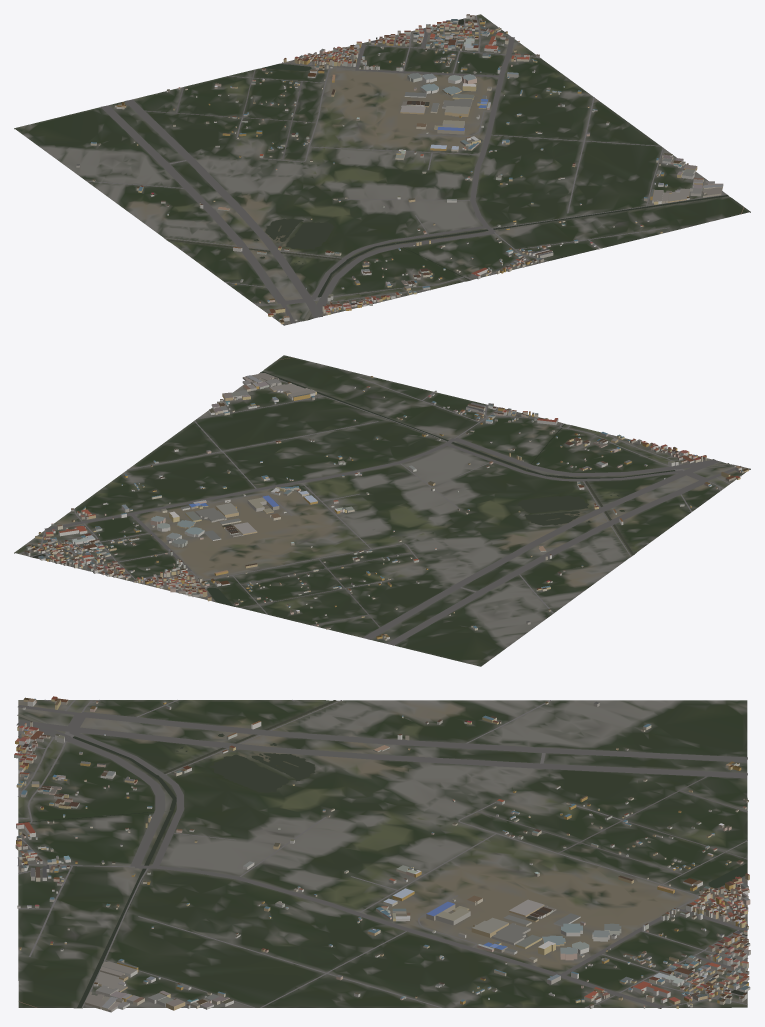
3 renders of one model, top to bottom at view 1: azimuth 30°, elevation 25°; view 2: azimuth 150°, elevation 25°; view 3: azimuth 270°, elevation 25°, orthographic. The views are drawn at different scales.
Visible parts, largest first — view 1: ground, buildings, roads, water; view 2: ground, buildings, roads, water; view 3: ground, buildings, roads, water.
Part boxes in pixels (x1,y1,x2,y2): ground: [14, 14, 750, 325]; buildings: [76, 14, 723, 324]; roads: [86, 15, 743, 323]; water: [166, 19, 728, 320]; ground: [14, 355, 750, 666]; buildings: [24, 373, 748, 640]; roads: [18, 357, 742, 645]; water: [32, 371, 729, 606]; ground: [18, 700, 747, 1008]; buildings: [14, 696, 750, 1012]; roads: [16, 699, 748, 1008]; water: [17, 700, 746, 1007].
Size of the model in its own units: 1427 by 19.8 by 1417.
